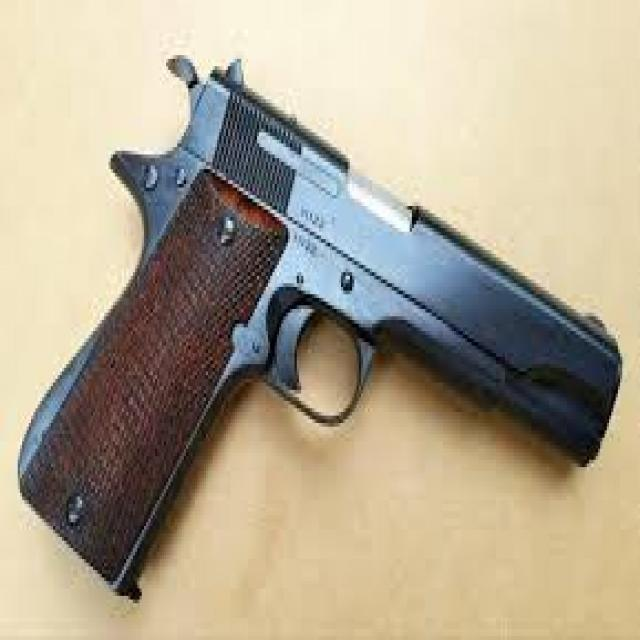semi automatic: (11, 41, 630, 622)
